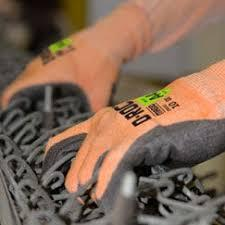gloves: (45, 60, 225, 206), (1, 1, 225, 114)
